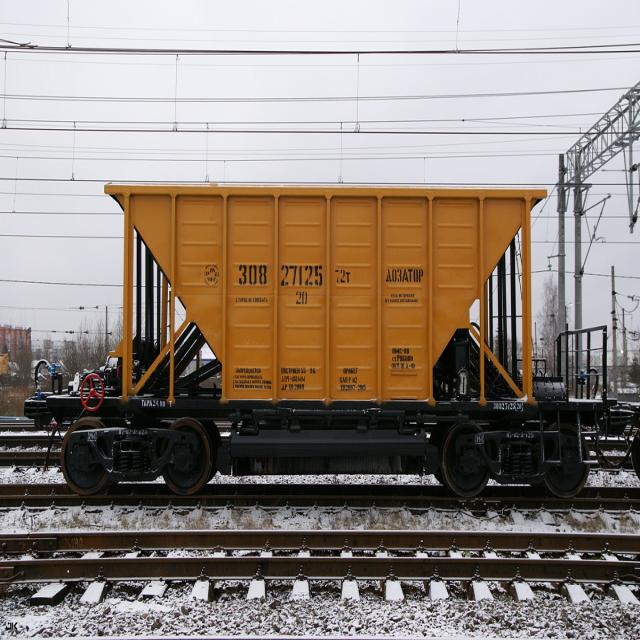hopper: (52, 149, 604, 506)
